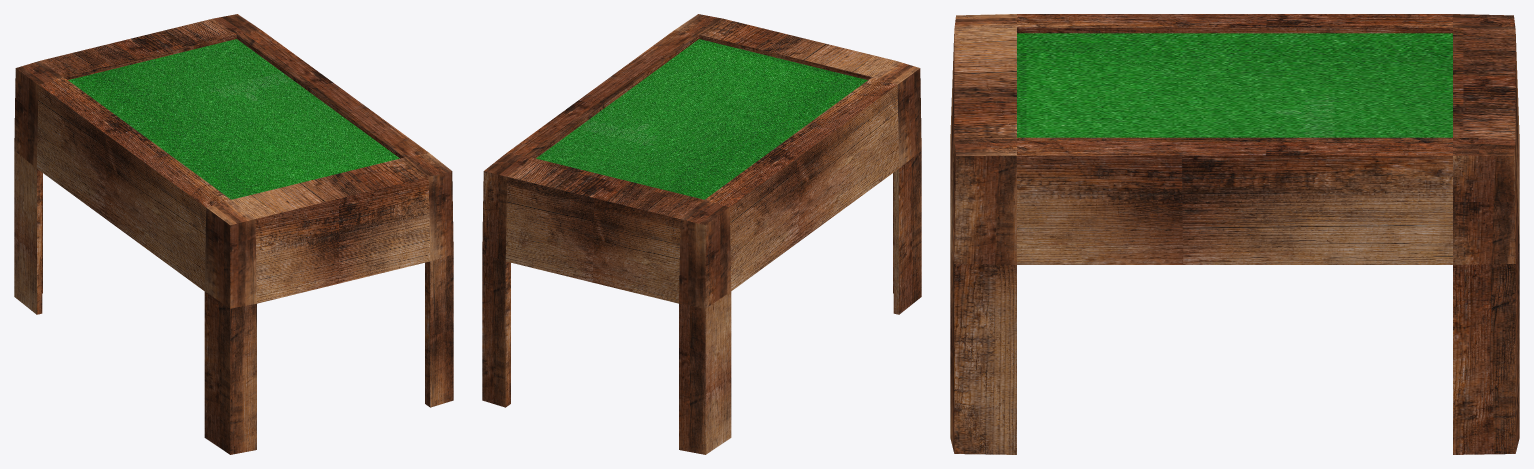
Rendered from Table Final.glb.
The picture shows the model from 3 angles, left to right: view 1: azimuth 30°, elevation 25°; view 2: azimuth 150°, elevation 25°; view 3: azimuth 270°, elevation 25°; orthographic projection. The views are drawn at different scales.
Visible parts, largest first — view 1: Cube; view 2: Cube; view 3: Cube.
Boxes of the visible parts, x1,y1,x2,y2 form: Cube: (14,14,453,454); Cube: (482,14,921,454); Cube: (950,14,1519,454).
Bounding box in the file's own units: 2.1 × 2.05 × 3.52.
2 materials, 2 textured.
